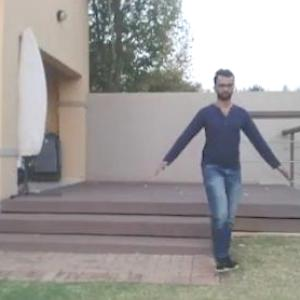land: (148, 67, 287, 278)
